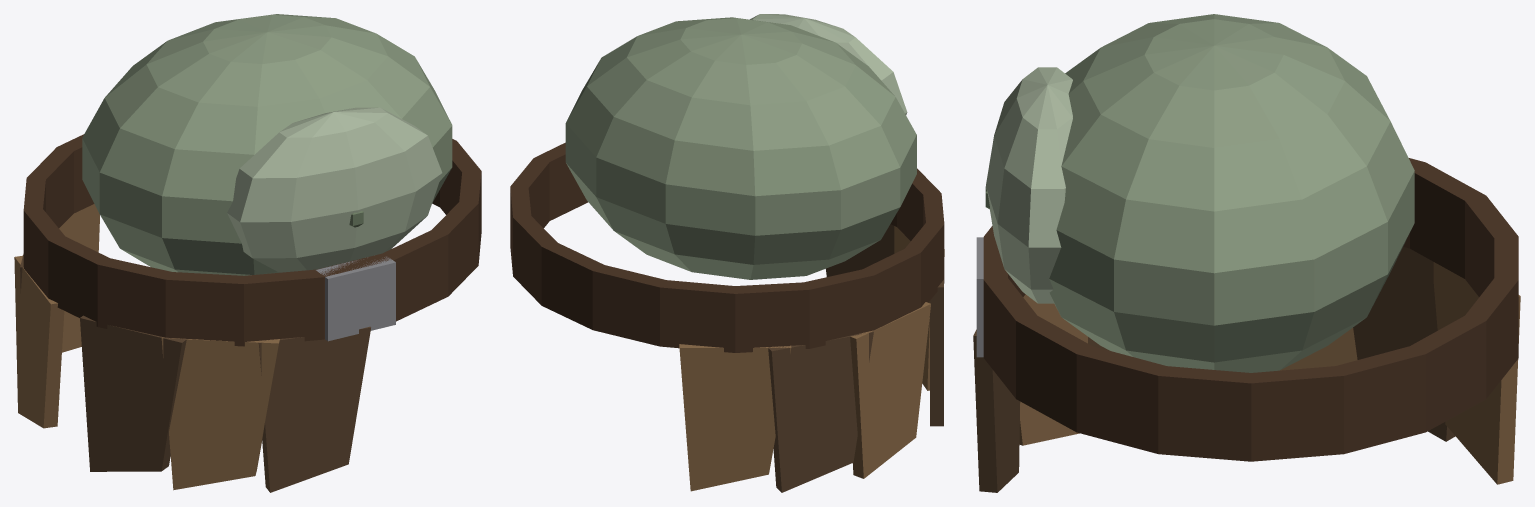
The model's file is stonebrow_shaman_belly.glb.
The picture shows the model from 3 angles, left to right: view 1: azimuth 30°, elevation 25°; view 2: azimuth 150°, elevation 25°; view 3: azimuth 270°, elevation 25°; orthographic projection. The views are drawn at different scales.
Parts seen in each view (by area): view 1: stonebrow_shaman_belly; view 2: stonebrow_shaman_belly; view 3: stonebrow_shaman_belly.
Boxes of the visible parts, box(x1,y1,x2,y2) form: stonebrow_shaman_belly: box(14, 14, 481, 492); stonebrow_shaman_belly: box(510, 14, 944, 492); stonebrow_shaman_belly: box(973, 14, 1520, 492).
Size of the model in its own units: 0.9696 by 0.85 by 0.8872.
